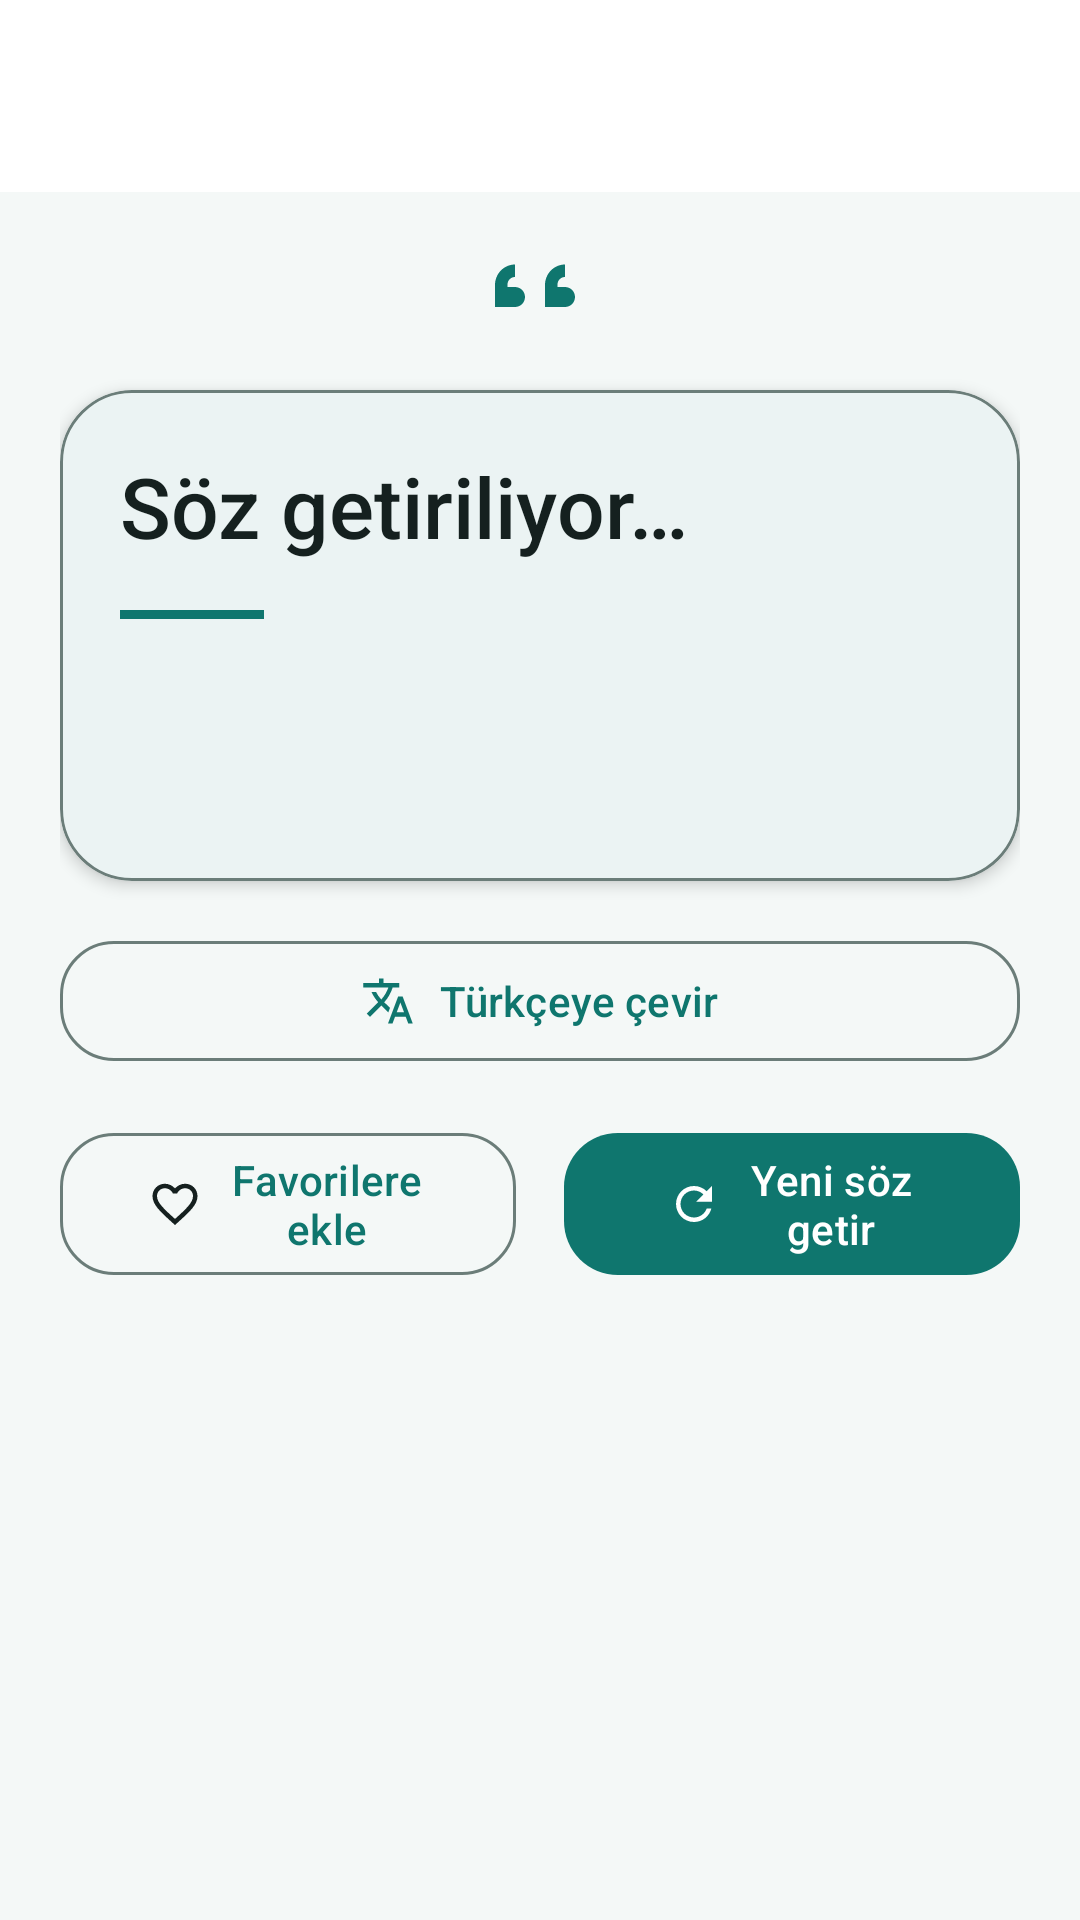

Icons on this 1080px x 1920px Android screen, each with its box as (x1, y1, x2, y2):
quote: (495, 264, 575, 307)
